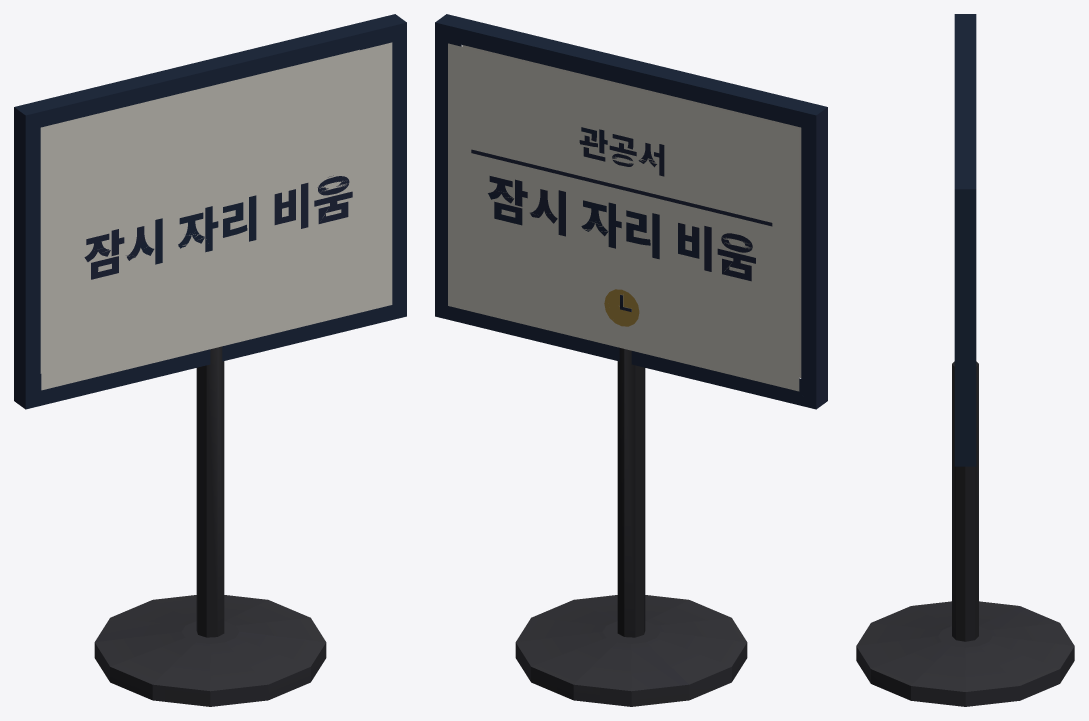
File: sign_away.glb
3 views of the same model, side by side, from view 1: azimuth 30°, elevation 25°; view 2: azimuth 150°, elevation 25°; view 3: azimuth 270°, elevation 25° (orthographic). The views are drawn at different scales.
Visible parts, largest first — view 1: sign_away; view 2: sign_away; view 3: sign_away.
Boxes of the visible parts, x1=… form: sign_away: x1=14, y1=14, x2=406, y2=706; sign_away: x1=435, y1=14, x2=827, y2=706; sign_away: x1=856, y1=14, x2=1074, y2=706.
Bounding box in the file's own units: 0.76 × 1.13 × 0.4.
